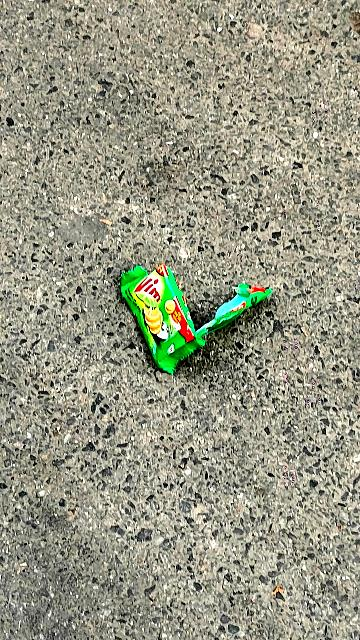packet: (97, 231, 247, 385)
